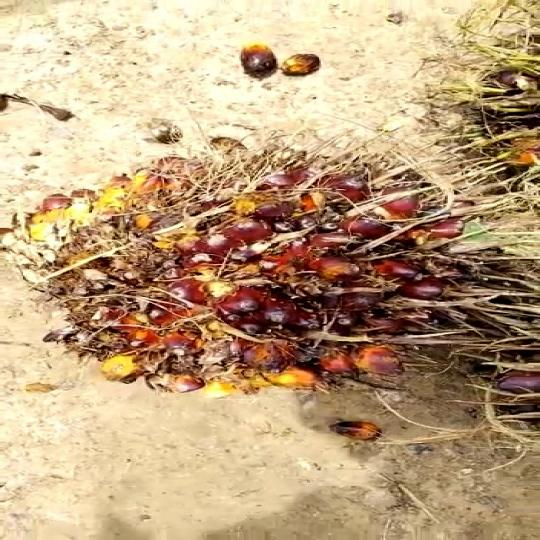masak: (7, 127, 495, 403)
